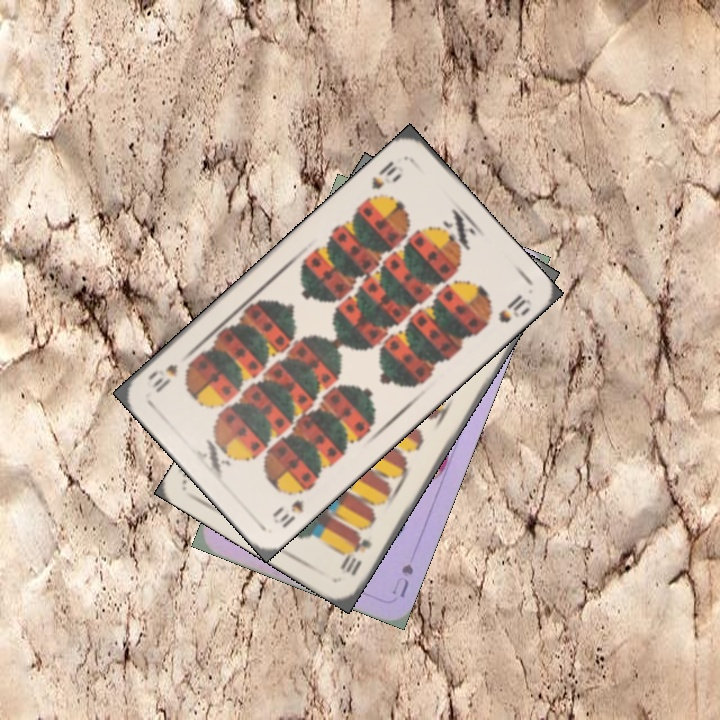E10: (336, 523, 374, 578)
S10: (268, 495, 307, 531), (367, 157, 400, 192)
SU: (388, 559, 416, 601)
